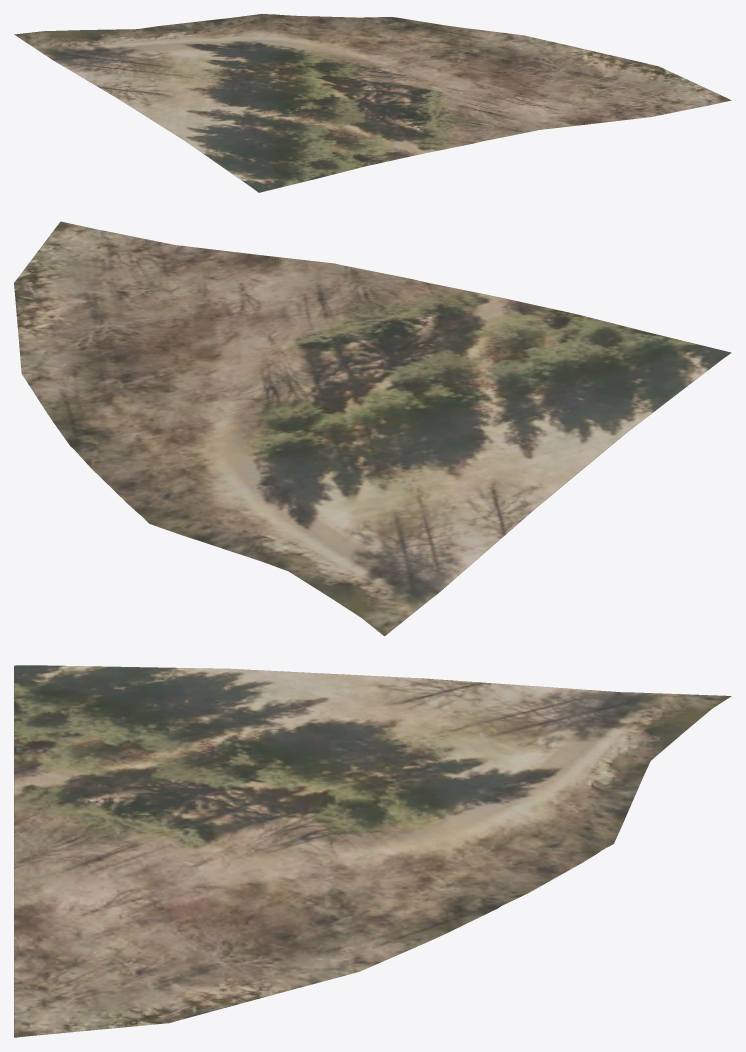
The model's file is CM_Terrain_24489639_6819384.fbx.
3 views of the same model, one above another, from view 1: azimuth 30°, elevation 25°; view 2: azimuth 150°, elevation 25°; view 3: azimuth 270°, elevation 25° (orthographic). The views are drawn at different scales.
Visible parts, largest first — view 1: CM_Terrain_24489639_6819384_LOD0; view 2: CM_Terrain_24489639_6819384_LOD0; view 3: CM_Terrain_24489639_6819384_LOD0.
Part boxes in pixels (x1,y1,x2,y2): CM_Terrain_24489639_6819384_LOD0: (14,14,731,192); CM_Terrain_24489639_6819384_LOD0: (14,221,731,636); CM_Terrain_24489639_6819384_LOD0: (14,665,731,1037).
Size of what is drawn, in the model's own units: 60.8 by 2.92 by 54.49.
